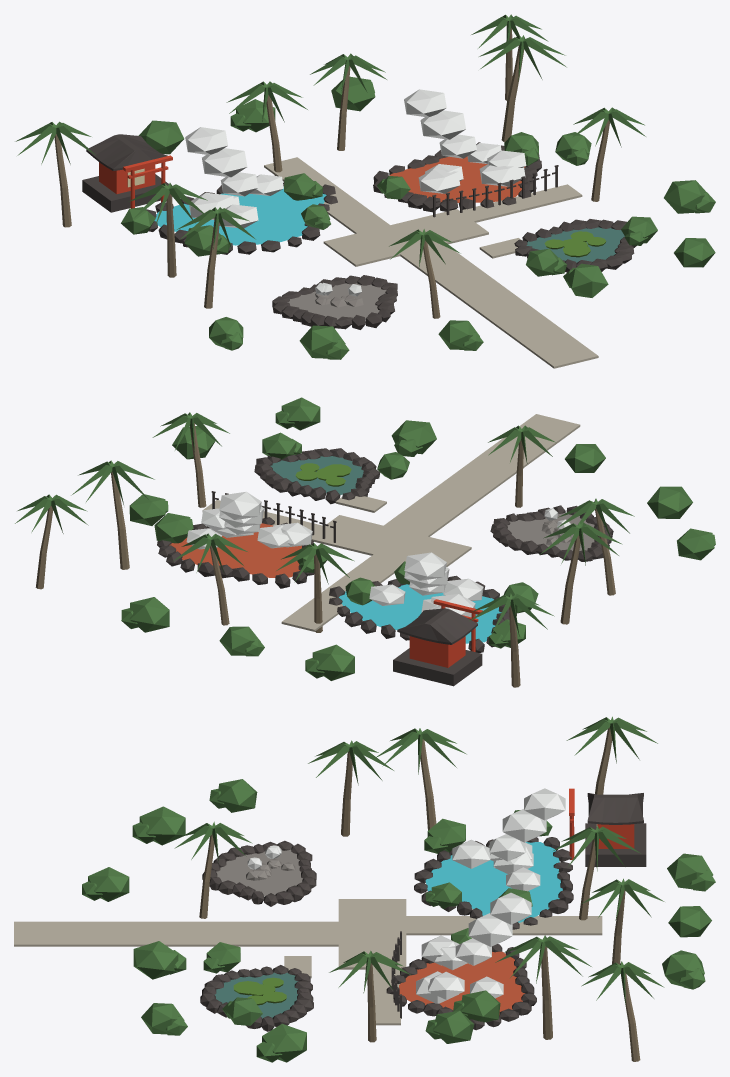
Rendered from beppu-hells.glb.
The picture shows the model from 3 angles, top to bottom: view 1: azimuth 30°, elevation 25°; view 2: azimuth 150°, elevation 25°; view 3: azimuth 270°, elevation 25°; orthographic projection. The views are drawn at different scales.
Parts seen in each view (by area): view 1: beppu_palm, beppu_pave, beppu_rock, beppu_steam, beppu_bark, beppu_bluehot, beppu_redhot, beppu_mud, beppu_red, beppu_water, beppu_lily; view 2: beppu_palm, beppu_pave, beppu_rock, beppu_steam, beppu_bark, beppu_redhot, beppu_bluehot, beppu_red, beppu_mud, beppu_water, beppu_lily; view 3: beppu_palm, beppu_pave, beppu_rock, beppu_steam, beppu_bark, beppu_bluehot, beppu_redhot, beppu_mud, beppu_water, beppu_lily, beppu_red.
Boxes of the visible parts, left/top/right/bottom form: beppu_palm: left=15, top=14, right=715, bottom=359; beppu_pave: left=264, top=157, right=598, bottom=368; beppu_rock: left=82, top=134, right=636, bottom=329; beppu_steam: left=185, top=89, right=526, bottom=296; beppu_bark: left=54, top=25, right=609, bottom=318; beppu_bluehot: left=154, top=187, right=326, bottom=245; beppu_redhot: left=389, top=156, right=525, bottom=202; beppu_mud: left=287, top=283, right=386, bottom=319; beppu_red: left=99, top=155, right=172, bottom=208; beppu_water: left=526, top=227, right=624, bottom=262; beppu_lily: left=544, top=231, right=606, bottom=257; beppu_palm: left=15, top=397, right=715, bottom=680; beppu_pave: left=202, top=414, right=580, bottom=631; beppu_rock: left=157, top=448, right=613, bottom=686; beppu_steam: left=186, top=491, right=570, bottom=617; beppu_bark: left=35, top=423, right=615, bottom=687; beppu_redhot: left=169, top=523, right=301, bottom=577; beppu_bluehot: left=339, top=584, right=501, bottom=643; beppu_red: left=409, top=599, right=482, bottom=667; beppu_mud: left=507, top=513, right=594, bottom=550; beppu_water: left=270, top=456, right=363, bottom=494; beppu_lily: left=295, top=463, right=351, bottom=486; beppu_palm: left=82, top=716, right=715, bottom=1062; beppu_pave: left=14, top=899, right=602, bottom=1025; beppu_rock: left=200, top=793, right=646, bottom=1031; beppu_steam: left=247, top=788, right=565, bottom=1003; beppu_bark: left=199, top=727, right=640, bottom=1061; beppu_bluehot: left=425, top=842, right=562, bottom=922; beppu_redhot: left=399, top=951, right=525, bottom=1015; beppu_mud: left=216, top=849, right=302, bottom=896; beppu_water: left=215, top=972, right=298, bottom=1018; beppu_lily: left=233, top=977, right=286, bottom=1005; beppu_red: left=569, top=788, right=634, bottom=859.
Size of the model in its own units: 19.22 by 3.48 by 20.76.
